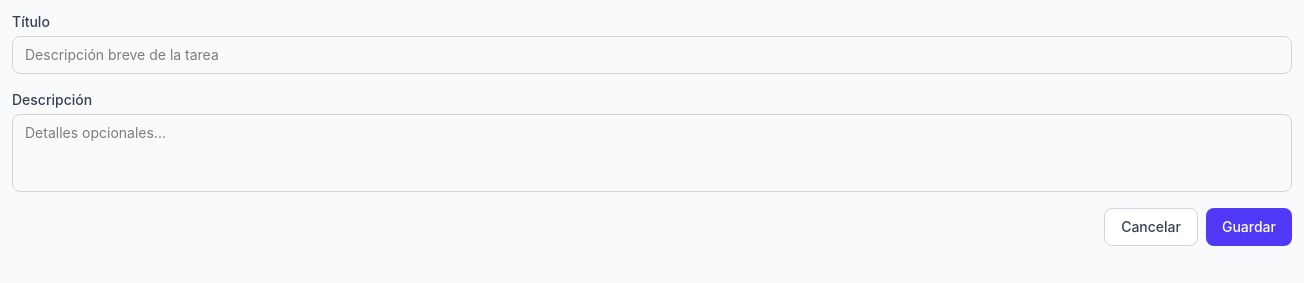
Scenario: TaskForm › TC-TF-07: error message for empty title is present in the DOM after failed submit
What coordinates should you click on to do the following:
click the button "Guardar"
I would click on:
 (1249, 227)
Its box is x1=1206 y1=208 x2=1292 y2=246.
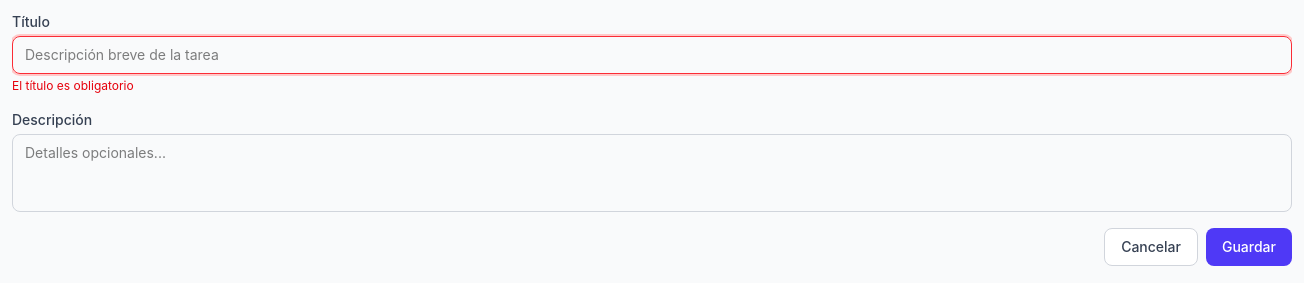
Result: the text "El título es obligatorio" is shown at x1=12 y1=78 x2=134 y2=93
